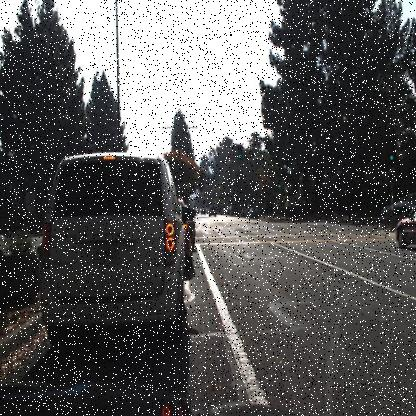car: (39, 150, 184, 359), (392, 199, 415, 256), (181, 201, 198, 269), (392, 183, 416, 221), (207, 200, 221, 221), (248, 206, 258, 221)
trafficLight-Green: (236, 140, 246, 162), (389, 142, 395, 162), (276, 175, 283, 191), (237, 144, 242, 166), (389, 146, 394, 168), (276, 180, 282, 196), (178, 186, 184, 200)
